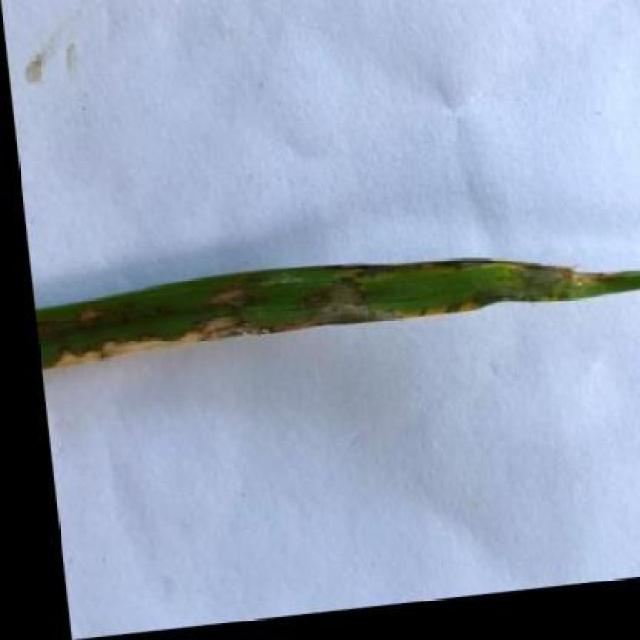Brown_Spot: (24, 233, 640, 373)
